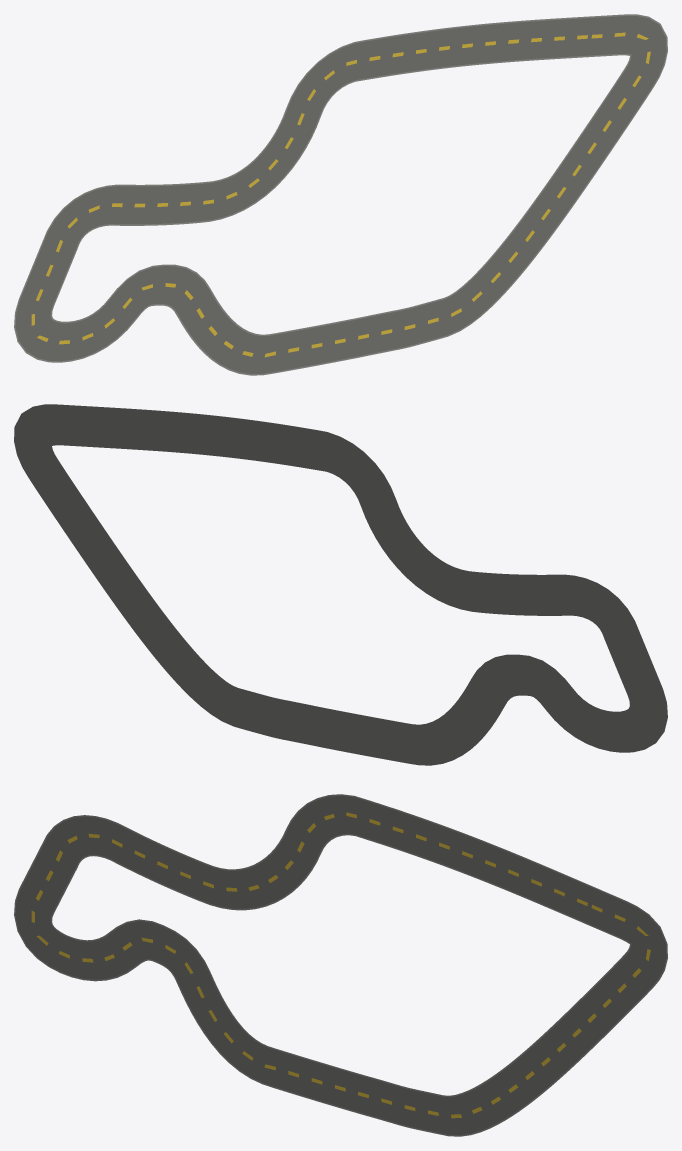
The model's file is track.obj.
The picture shows the model from 3 angles, top to bottom: view 1: azimuth 30°, elevation 25°; view 2: azimuth 150°, elevation 25°; view 3: azimuth 330°, elevation 25°; orthographic projection.
Size of the model in its own units: 18.25 by 8.5 by 0.002.
